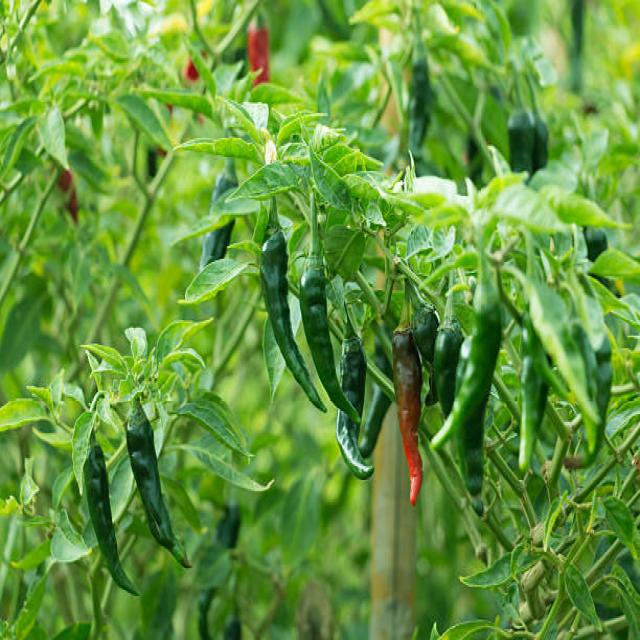Unripe: (431, 242, 500, 448), (260, 231, 326, 414), (125, 408, 188, 569), (300, 262, 359, 422), (84, 435, 135, 593), (392, 324, 421, 503), (519, 313, 549, 472), (458, 396, 487, 515), (434, 321, 462, 415), (336, 411, 374, 479), (340, 317, 366, 415), (409, 285, 439, 363)
